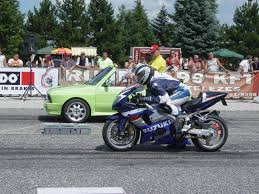motorcycle: (100, 83, 231, 154)
